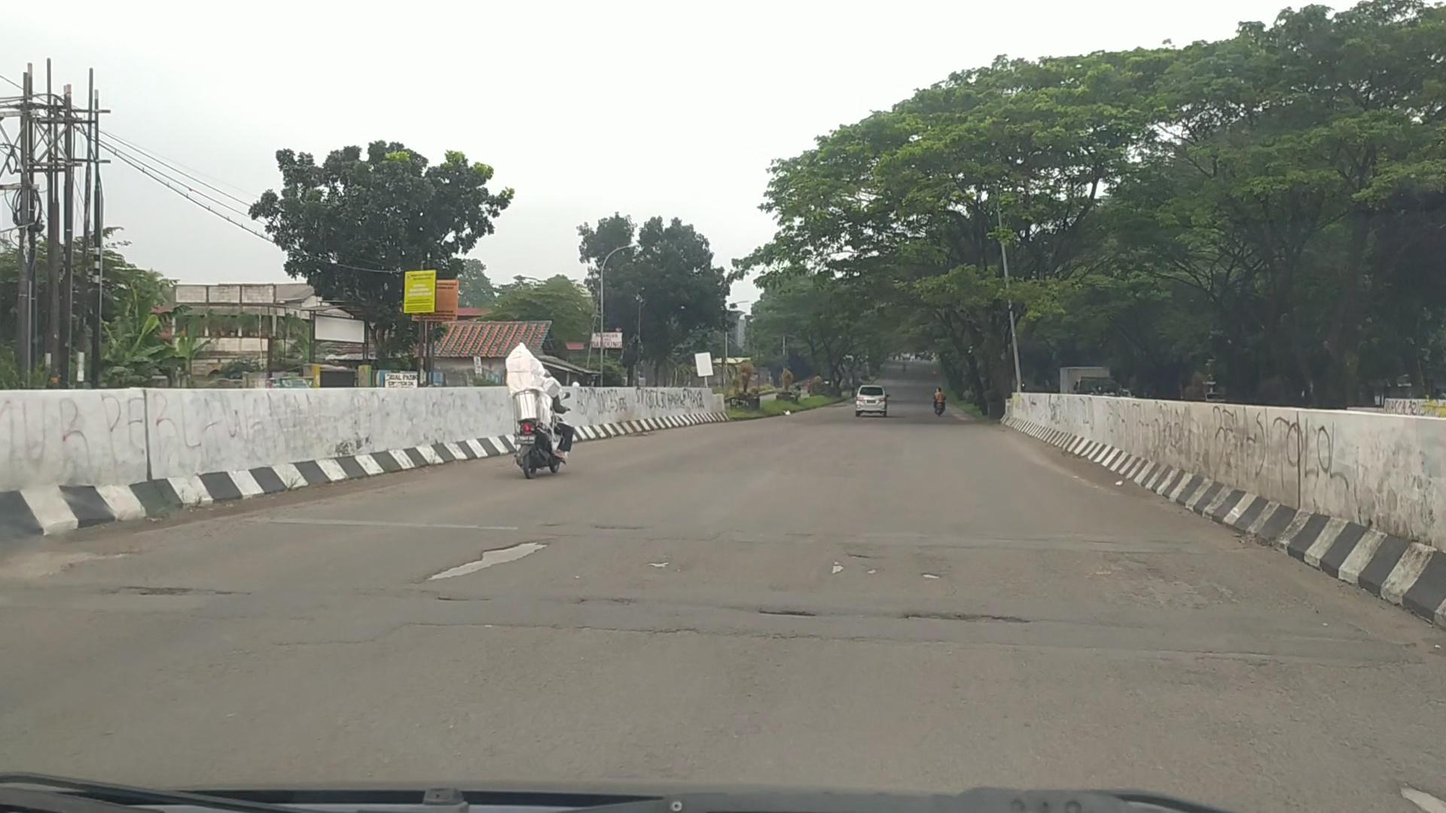pothole: (421, 537, 558, 583), (904, 609, 1033, 629), (103, 581, 242, 599), (753, 608, 817, 621)
